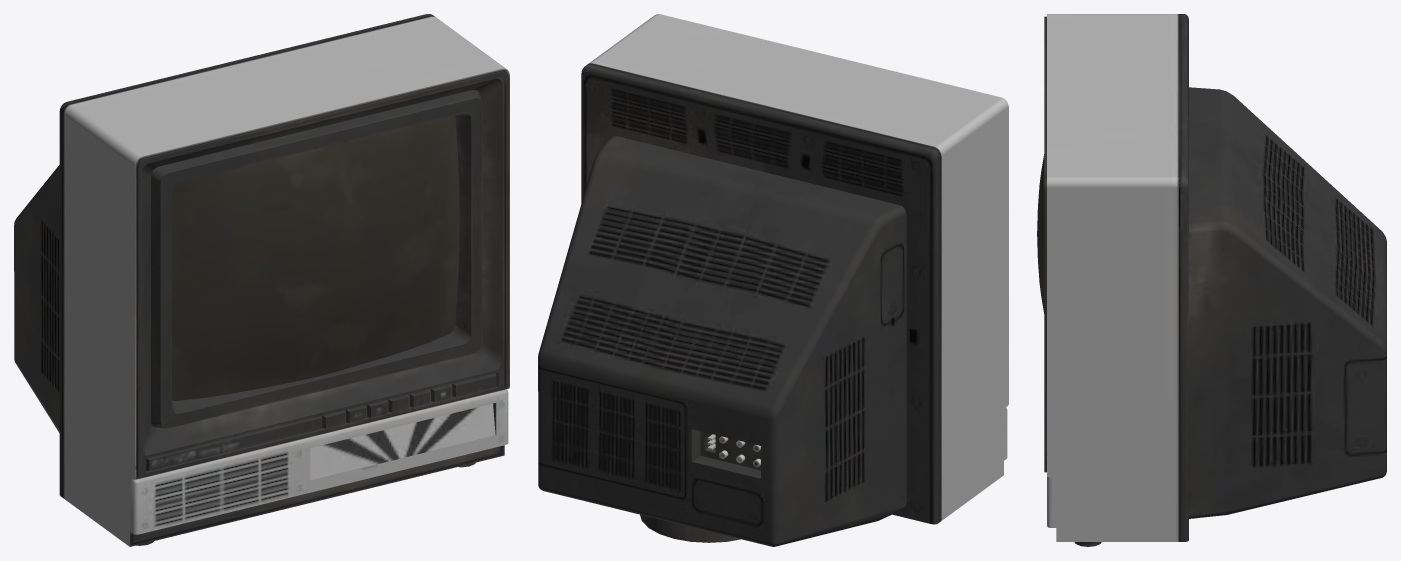
Rendered from television_02.glb.
3 renders of one model, left to right at view 1: azimuth 30°, elevation 25°; view 2: azimuth 150°, elevation 25°; view 3: azimuth 270°, elevation 25°, orthographic. The views are drawn at different scales.
Parts seen in each view (by area): view 1: television_02; view 2: television_02; view 3: television_02.
Part boxes in pixels (x1,y1,x2,y2): television_02: (14, 14, 509, 546); television_02: (538, 14, 1008, 546); television_02: (1037, 14, 1386, 546).
Size of the model in its own units: 0.3998 by 0.4114 by 0.3502.
1 material, 1 textured.
